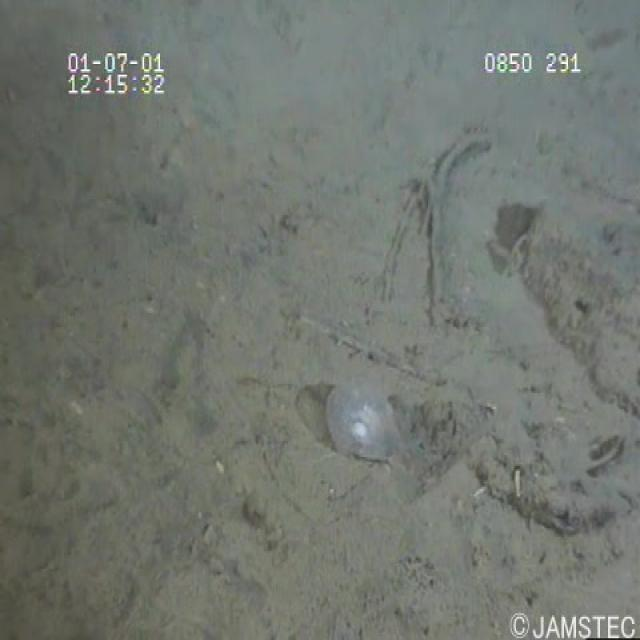plastic: (316, 368, 411, 478)
